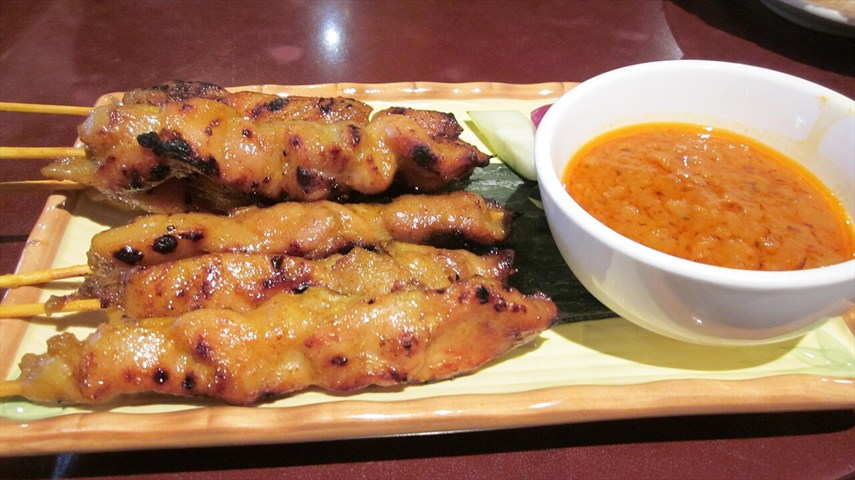Sate Ayam: (24, 71, 789, 429)
